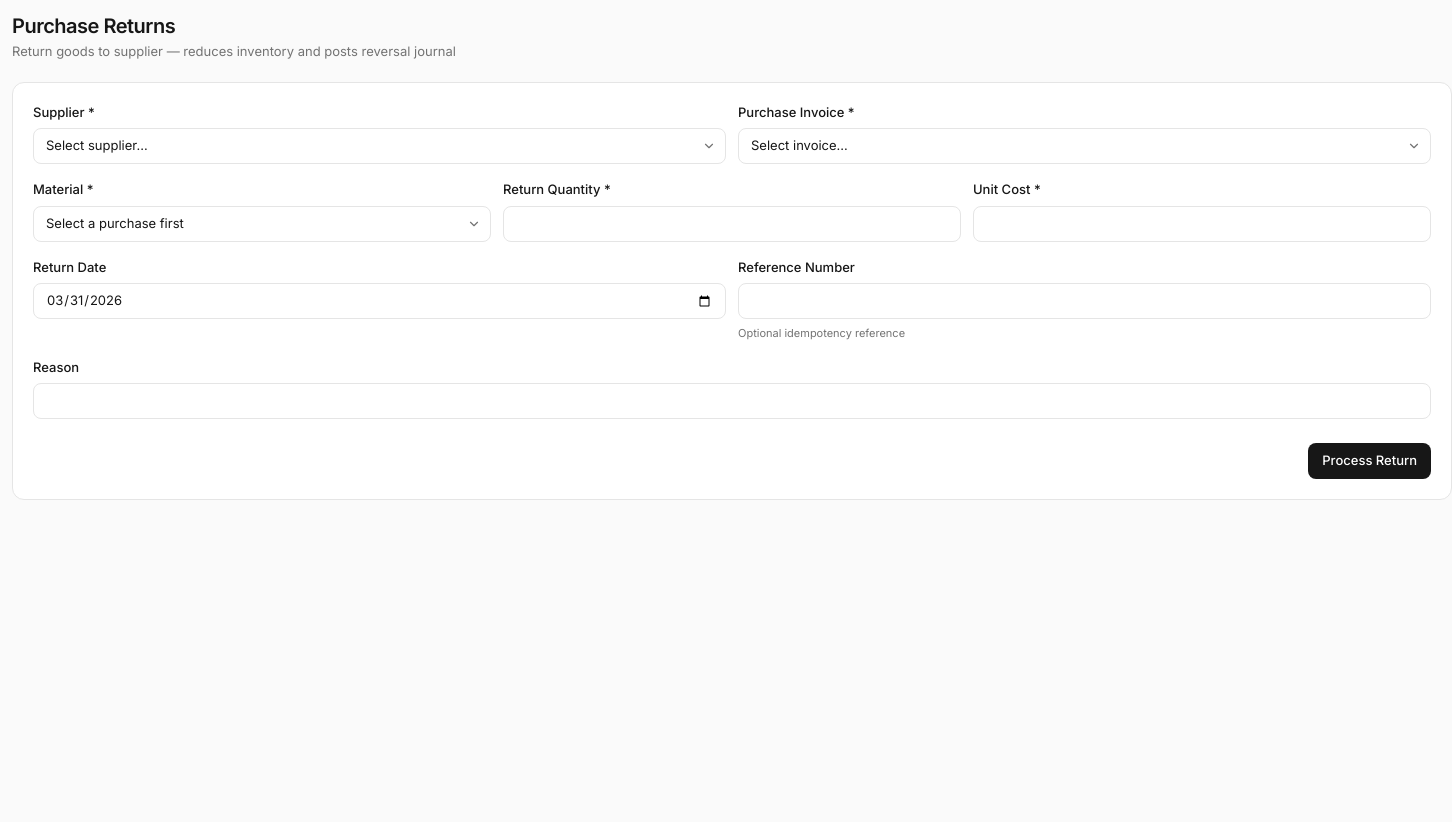
Test: PurchaseReturnsPage › shows return result banner with journal reference after success
Expected: the text "Supplier *" is shown, [33,104,95,120]
Select "Acme Materials" in the dropdown labelled "Supplier *": (380, 146) [33,128,726,164]
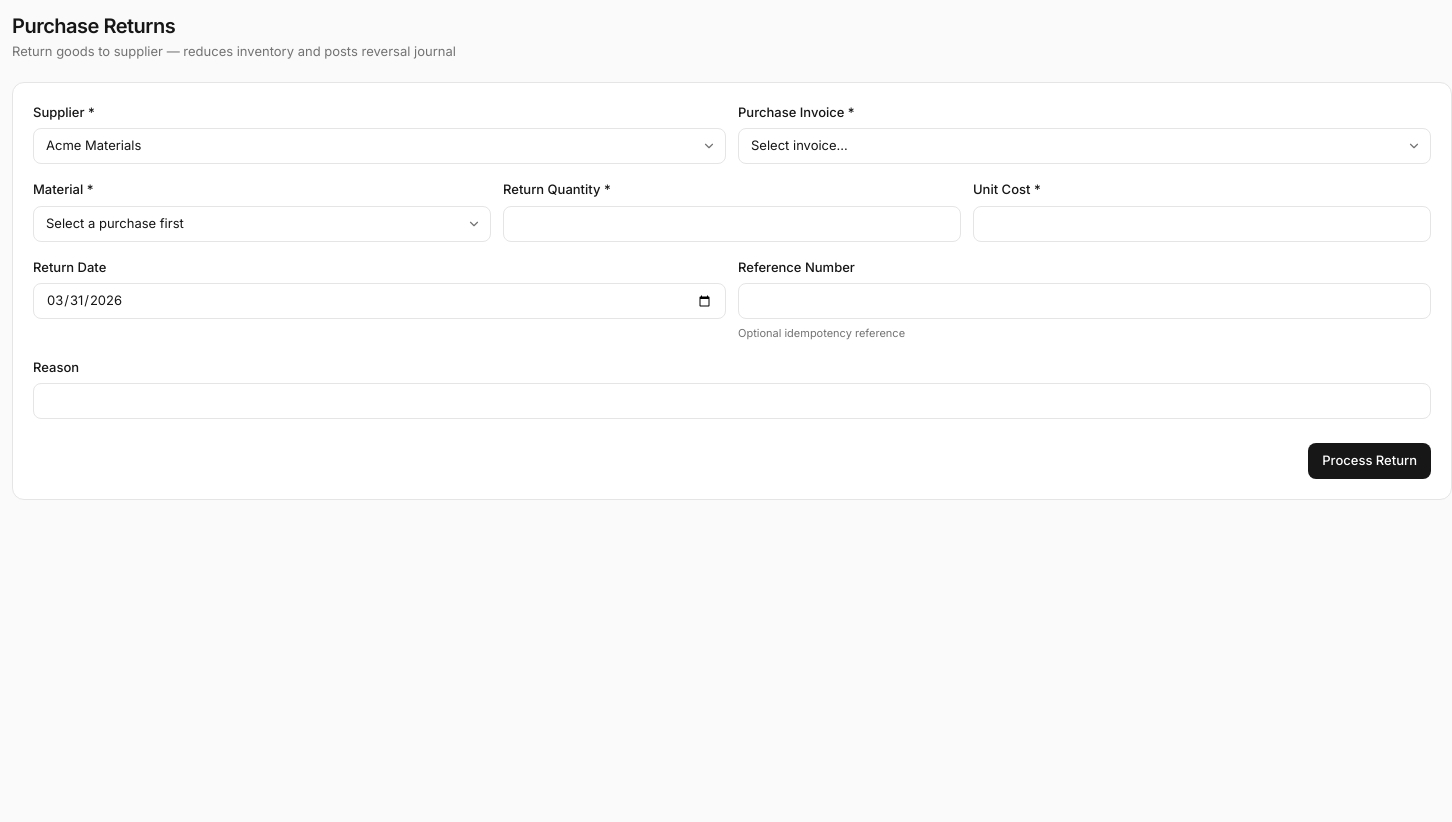
Select "INV-RM-001 — Acme Materials (01 Mar 2026)" in the dropdown labelled "Purchase Invoice *": (1084, 146) [738,128,1431,164]
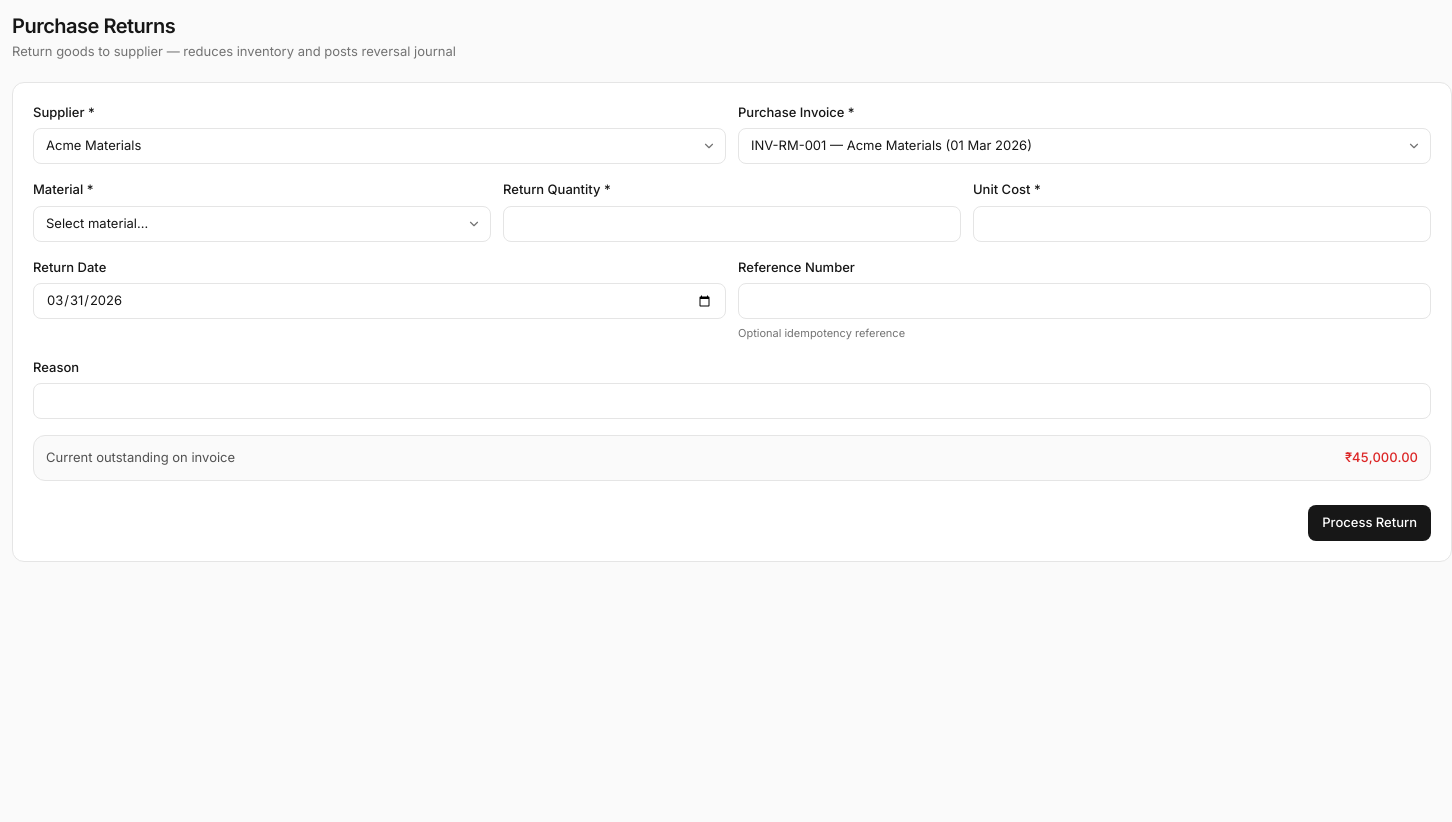
Select "Titanium Dioxide" in the dropdown labelled "Material *": (262, 224) [33,206,491,242]
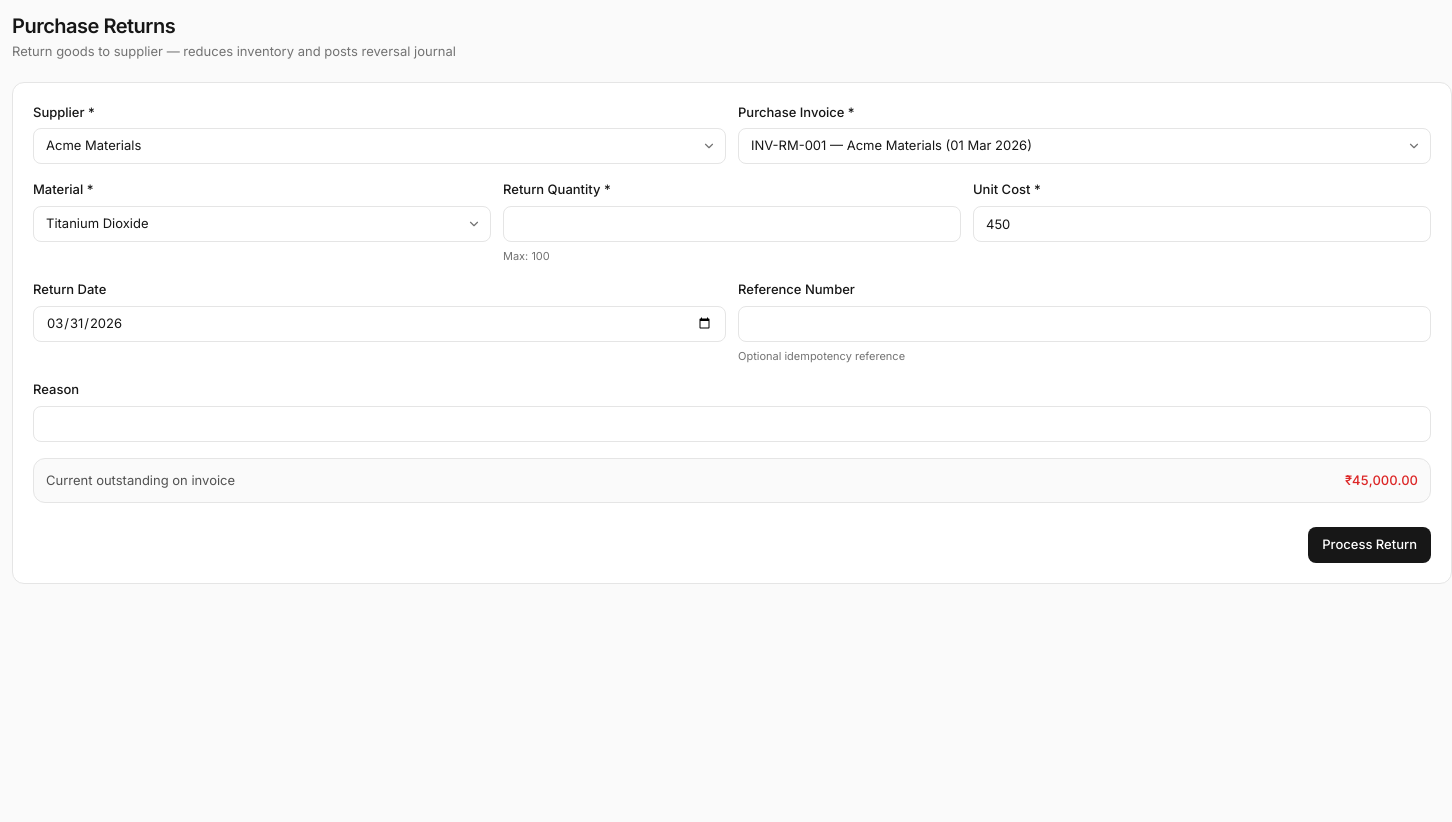
In the number field labelled "Return Quantity *": (732, 224) [503,206,961,242], type "5"
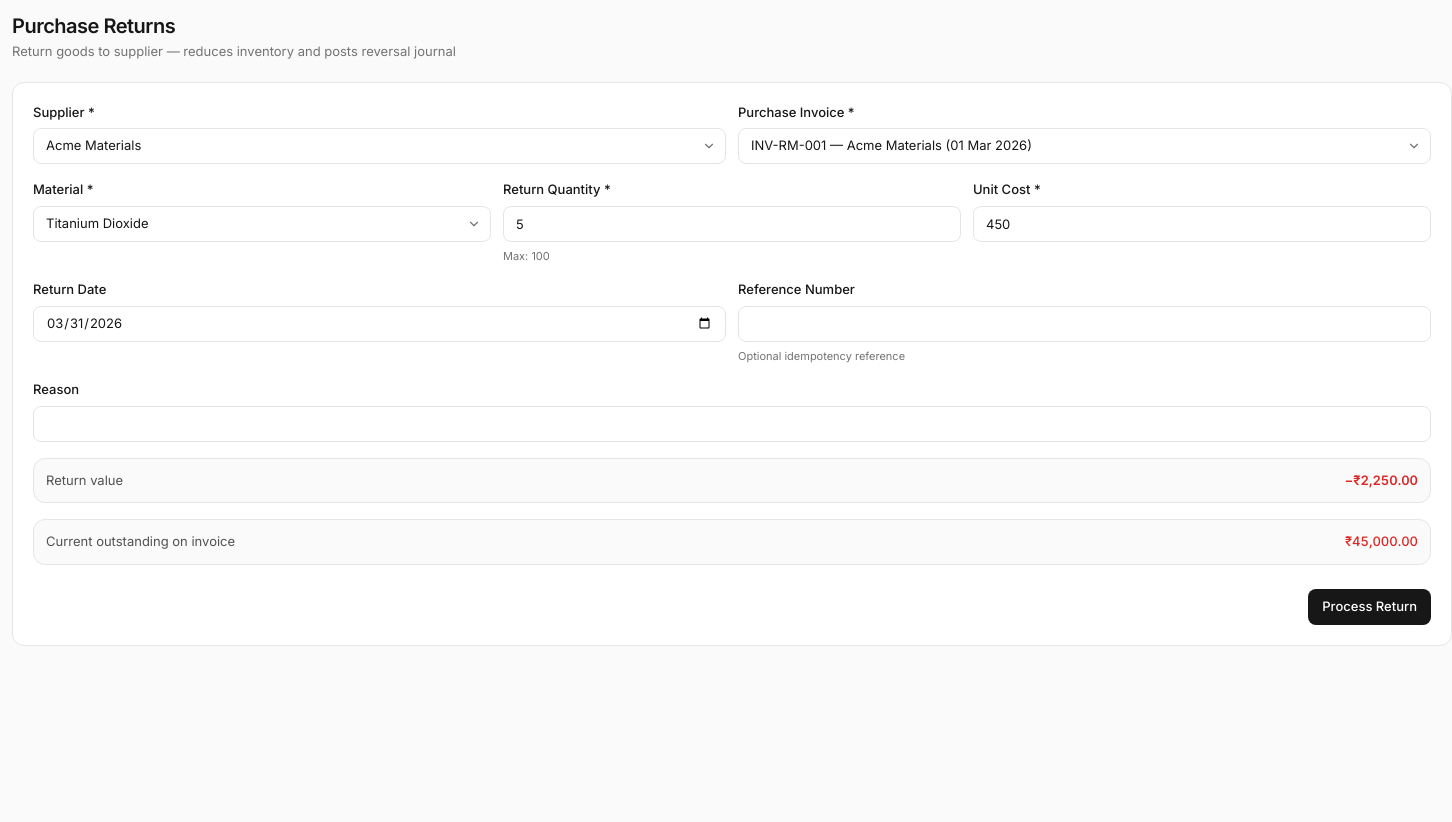
Click the button "Process Return": (1370, 606) [1308,588,1431,624]
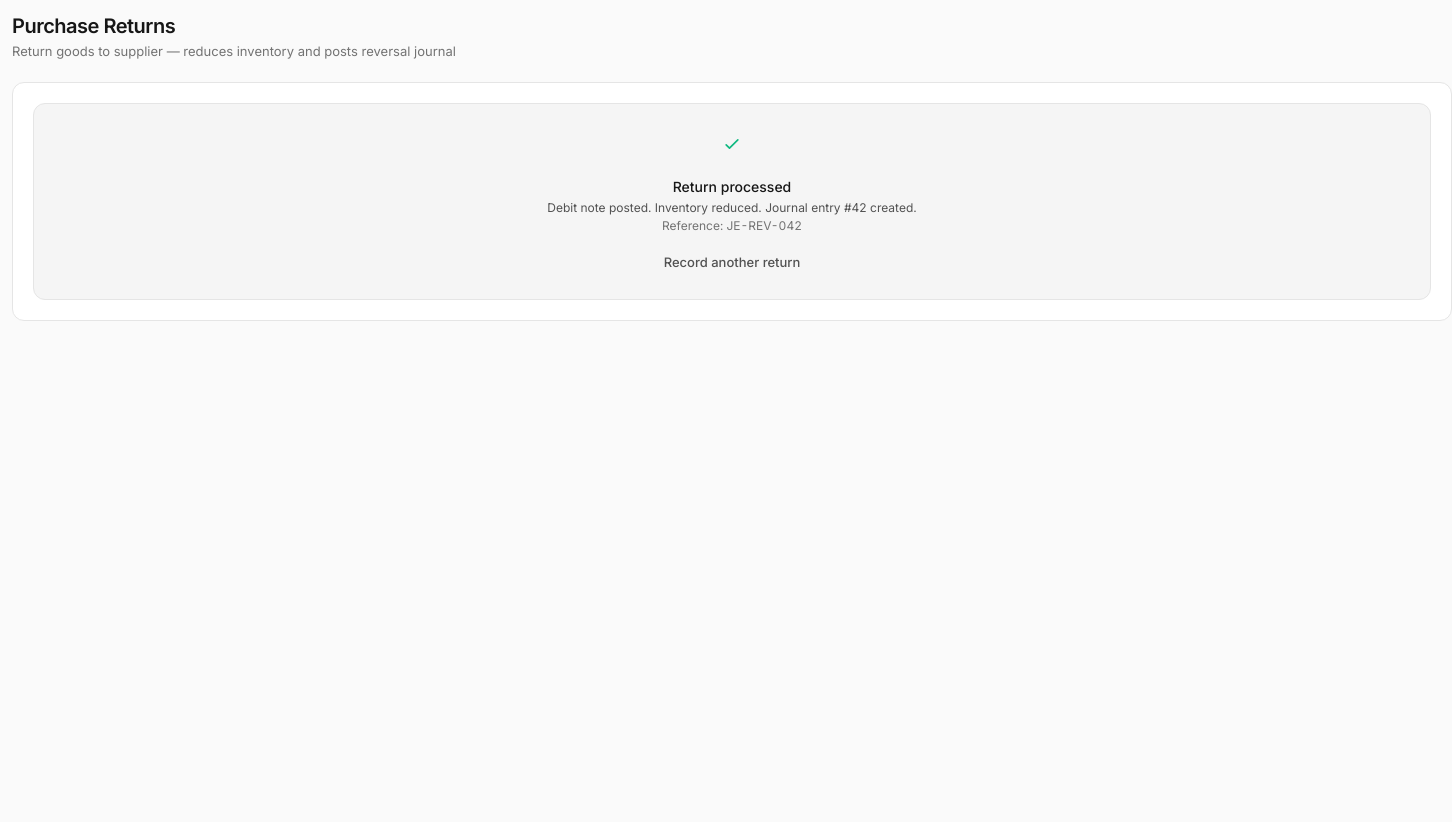
Expected: the text "Return processed" is shown, [673,178,791,194]
Expected: the text "Journal entry #42 created" is shown, [547,200,917,214]
